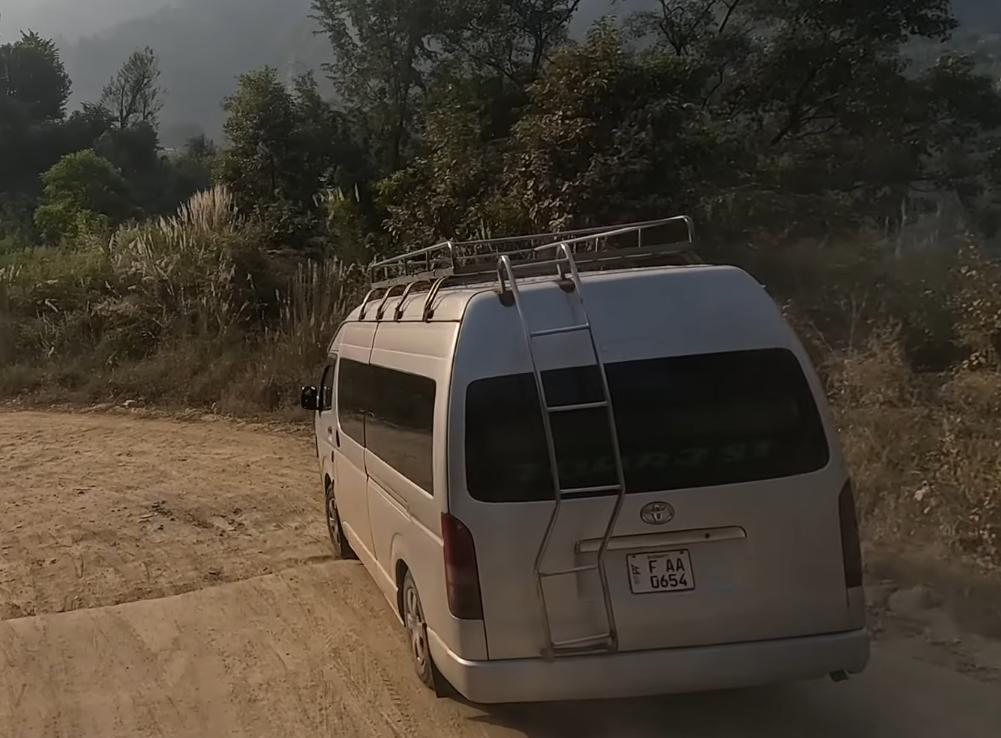micro_bus: (303, 224, 876, 730)
